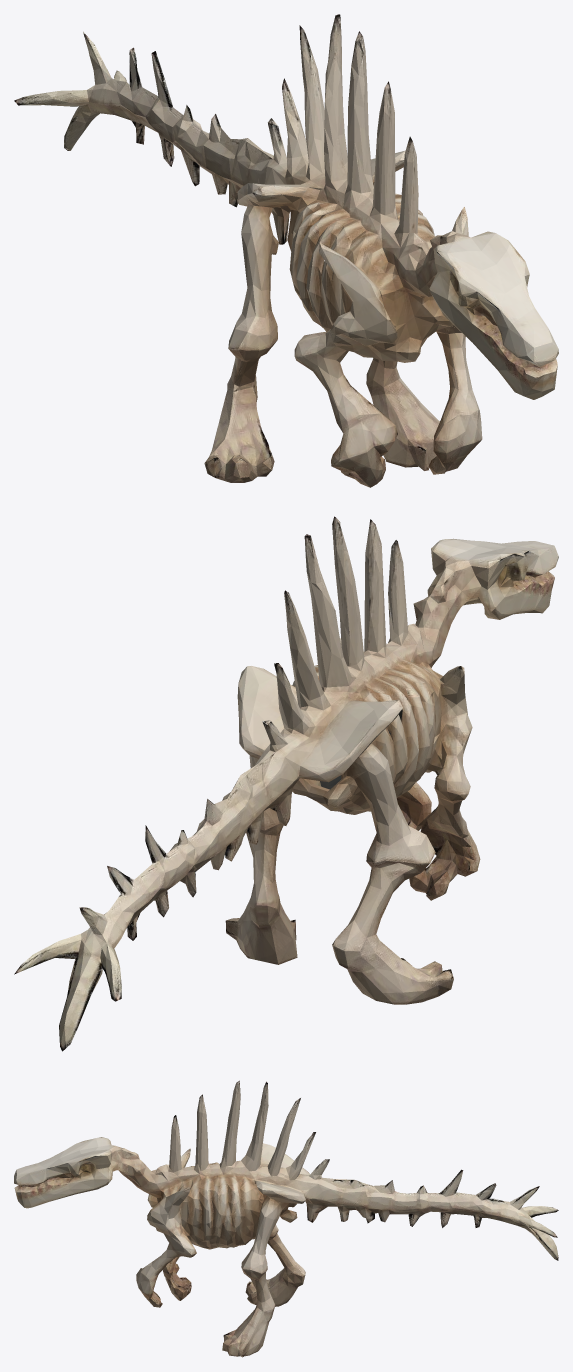
File: spinosaurus-skjelett.glb
The picture shows the model from 3 angles, top to bottom: view 1: azimuth 30°, elevation 25°; view 2: azimuth 150°, elevation 25°; view 3: azimuth 270°, elevation 25°; orthographic projection. The views are drawn at different scales.
Parts seen in each view (by area): view 1: geometry_0; view 2: geometry_0; view 3: geometry_0.
Boxes of the visible parts, x1,y1,x2,y2 form: geometry_0: (14, 14, 558, 487); geometry_0: (14, 516, 558, 1051); geometry_0: (14, 1080, 558, 1357).
Bounding box in the file's own units: 0.2924 × 0.5125 × 0.9998.
Materials: 1 (1 with a texture image).
